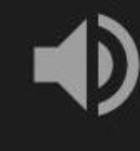ImgButton: (1, 1, 139, 150)
